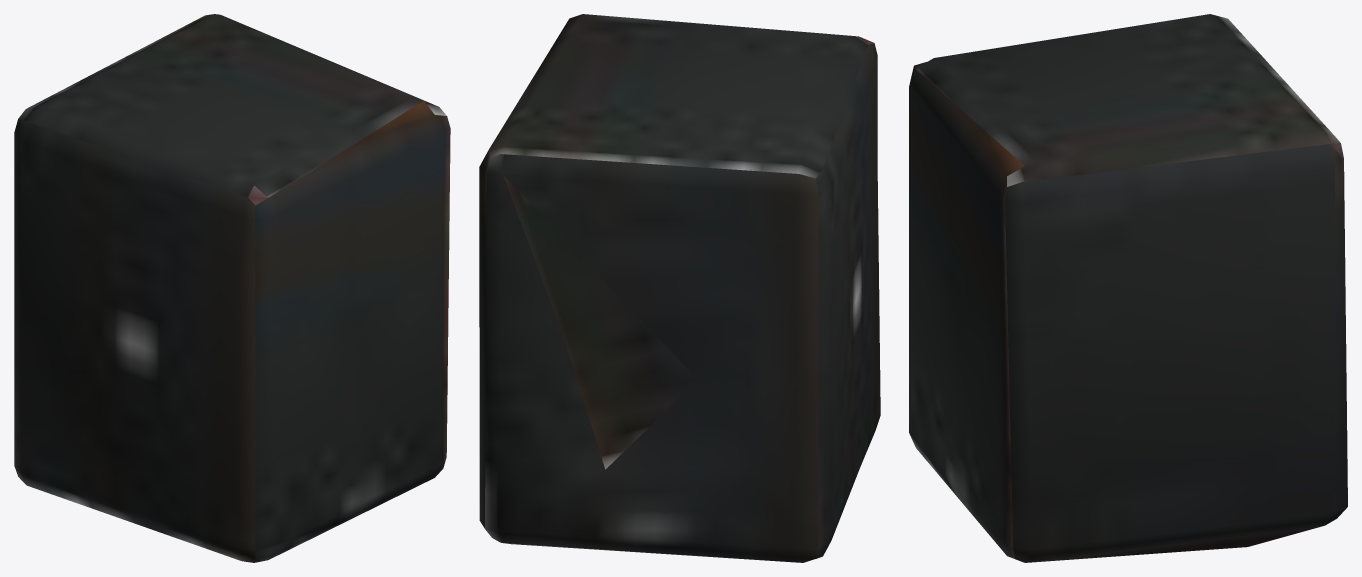
The model's file is office-studio-monitor.glb.
3 renders of one model, left to right at view 1: azimuth 30°, elevation 25°; view 2: azimuth 150°, elevation 25°; view 3: azimuth 270°, elevation 25°, orthographic. The views are drawn at different scales.
Parts seen in each view (by area): view 1: studio-monitor; view 2: studio-monitor; view 3: studio-monitor.
Boxes of the visible parts, <box> form: studio-monitor: <box>14,14,450,562</box>; studio-monitor: <box>479,14,880,562</box>; studio-monitor: <box>909,14,1347,562</box>.
Size of the model in its own units: 0.4223 by 0.453 by 0.453.
1 material, 1 textured.
